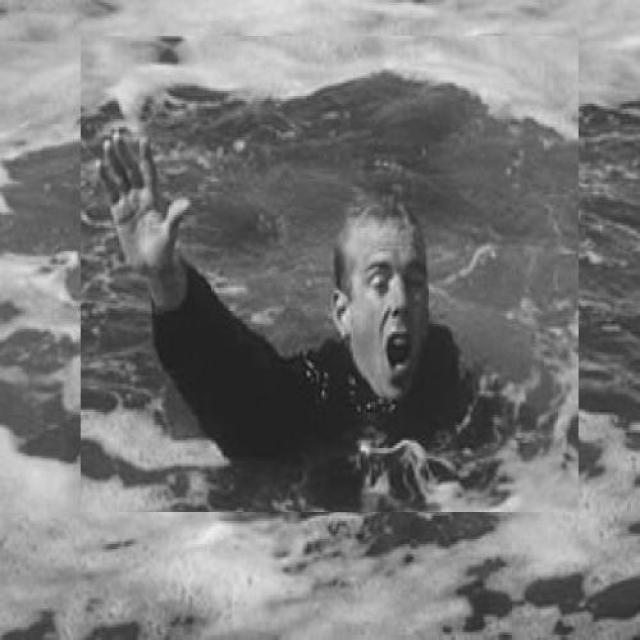drowning: (99, 88, 543, 530)
